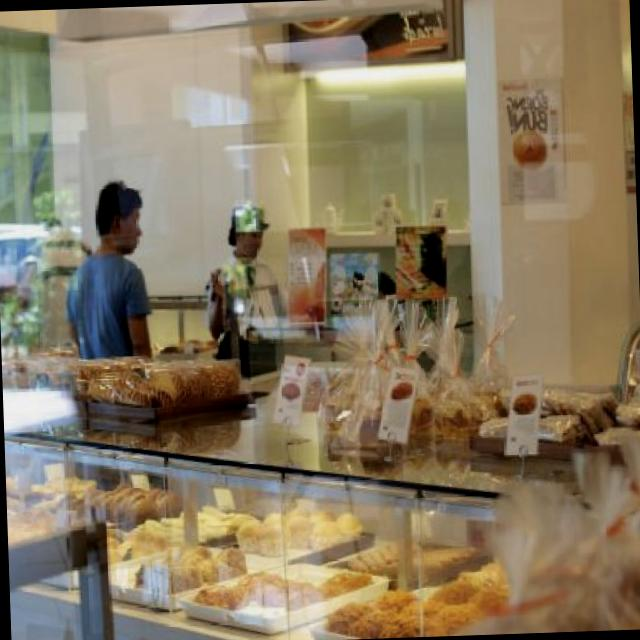Person: (57, 176, 155, 379), (200, 202, 298, 380)
